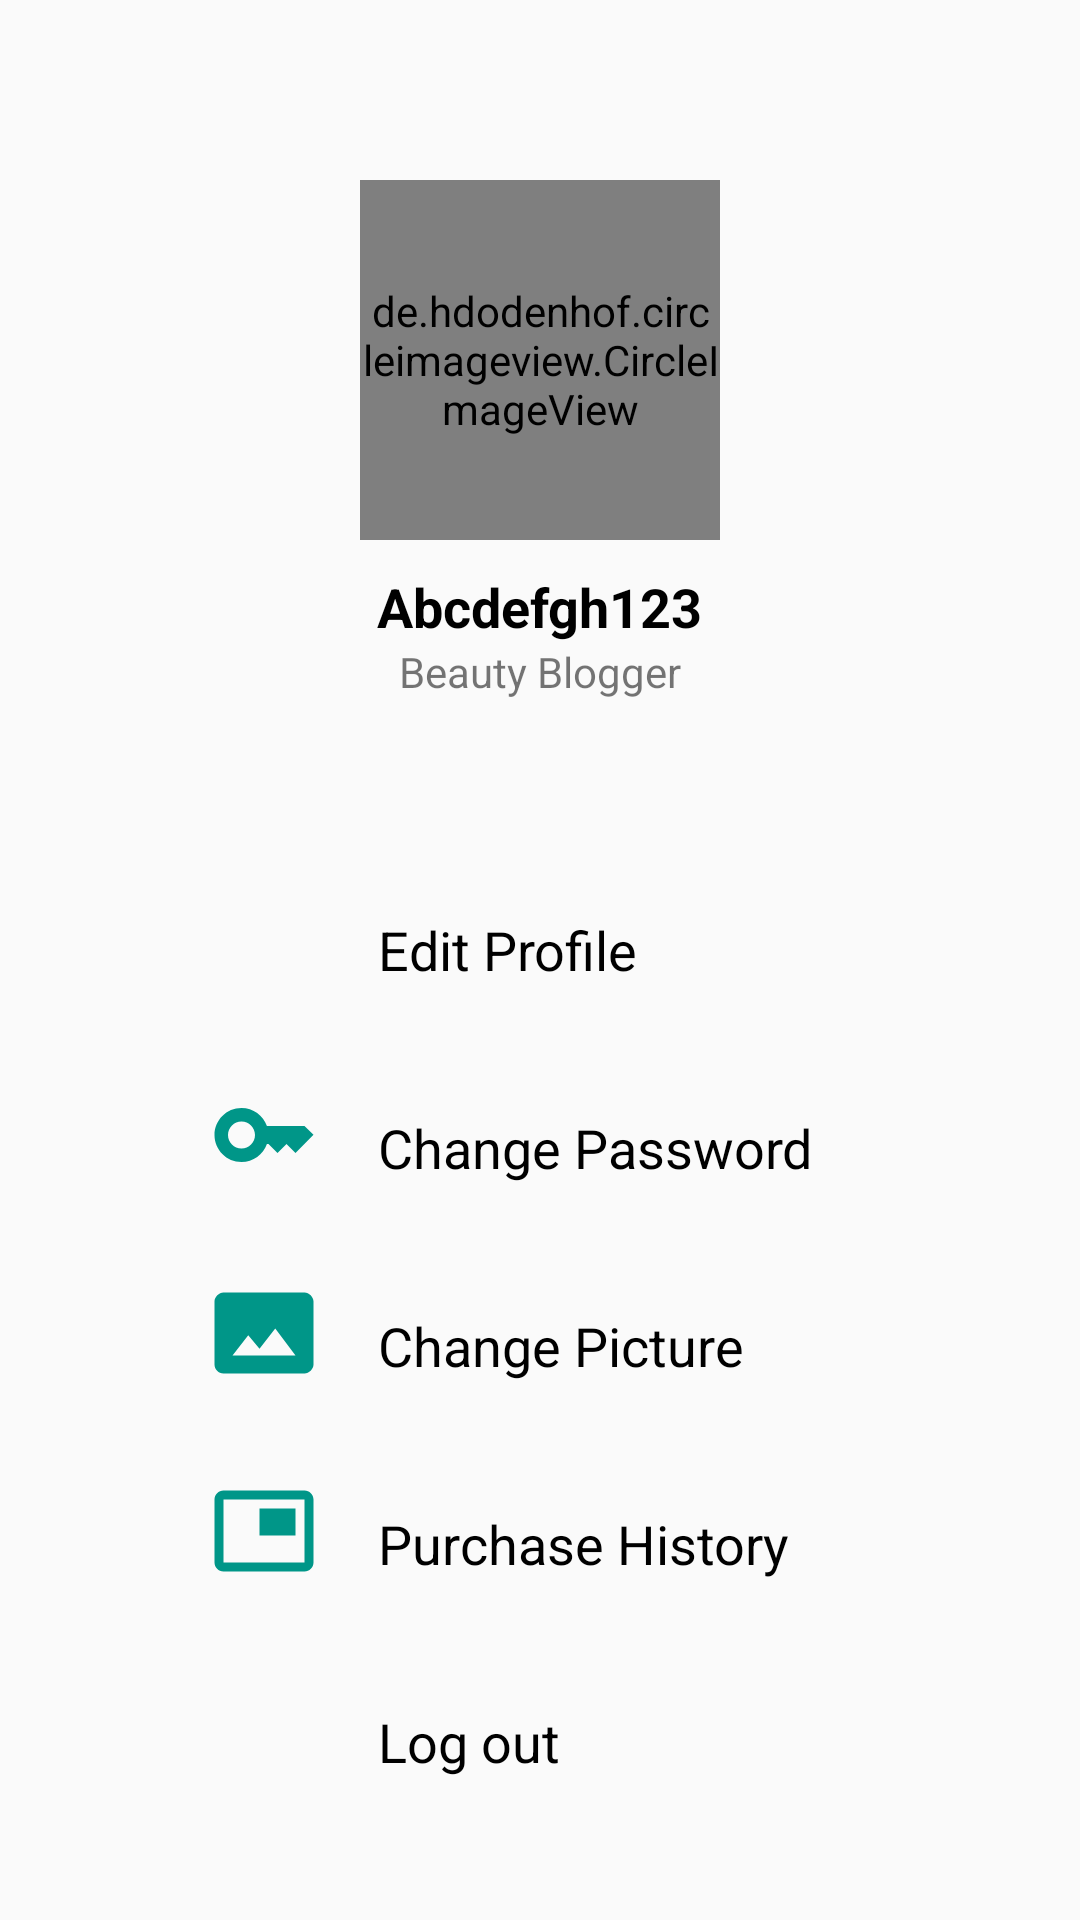

Screen size 1080 × 1920. Icon name, then its center in pixels as (x=x, y=y):
key: (x=264, y=1135)
photo size select actual: (x=264, y=1333)
picture in: (x=264, y=1531)
